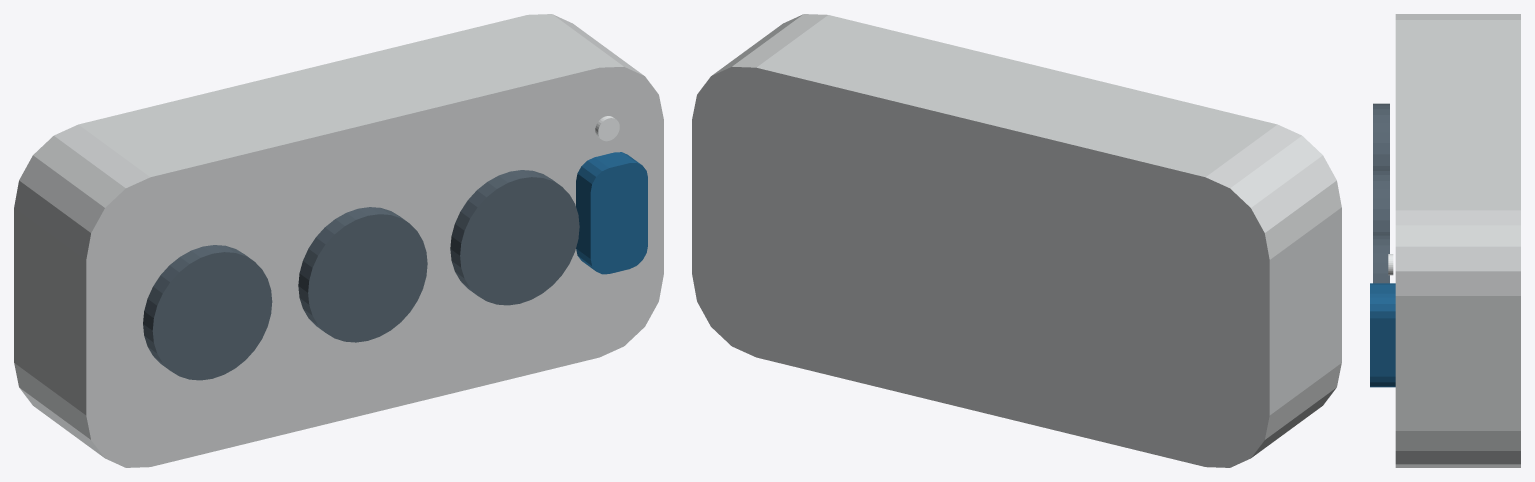
File: powerstrip.glb
The picture shows the model from 3 angles, left to right: view 1: azimuth 30°, elevation 25°; view 2: azimuth 150°, elevation 25°; view 3: azimuth 270°, elevation 25°; orthographic projection. The views are drawn at different scales.
Visible parts, largest first — view 1: case, socket-0.52, socket-0.06, socket0.39, switch; view 2: case; view 3: case, switch, socket-0.52, socket-0.06, socket0.39.
Boxes of the visible parts, x1,y1,x2,y2 form: case: [14, 14, 663, 467]; socket-0.52: [143, 245, 272, 380]; socket-0.06: [298, 207, 427, 342]; socket0.39: [450, 170, 579, 305]; switch: [576, 152, 647, 274]; case: [692, 14, 1341, 467]; case: [1395, 14, 1520, 467]; switch: [1370, 283, 1395, 387]; socket-0.52: [1373, 103, 1389, 169]; socket-0.06: [1373, 169, 1389, 233]; socket0.39: [1373, 234, 1389, 283].
Size of the model in its own units: 1.71 by 0.82 by 0.4455.
